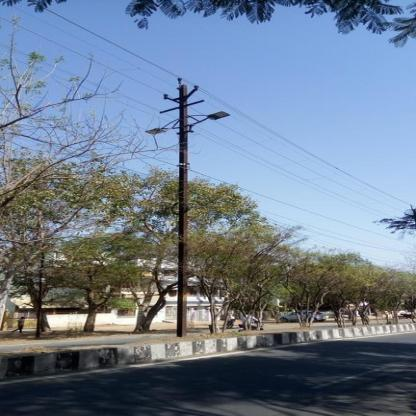Electrical Pole: (132, 75, 236, 338)
